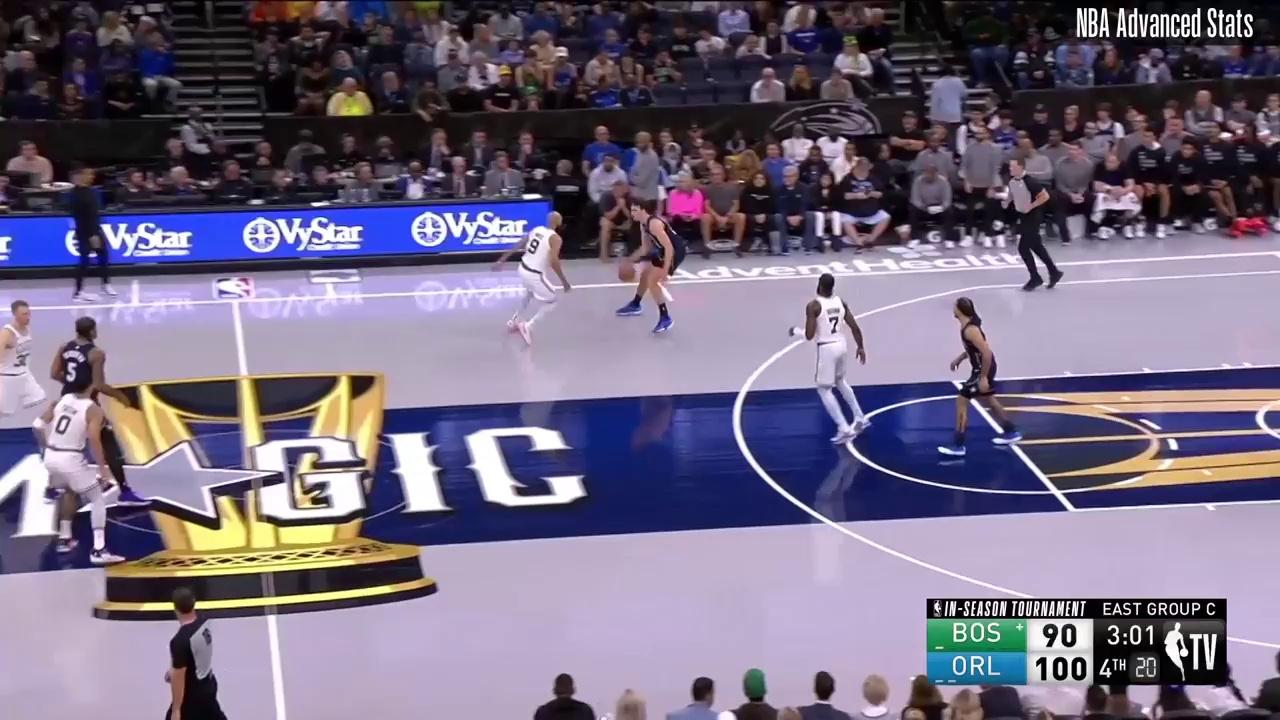free_adx: (1061, 500, 1082, 518)
free_asx: (945, 373, 965, 391)
half_sx: (226, 294, 245, 308)
mid_sx: (665, 295, 679, 306)
referee: (150, 587, 231, 720), (1003, 153, 1067, 286)
team: (41, 373, 129, 566), (781, 272, 876, 449), (487, 211, 572, 348), (0, 298, 55, 457)
team1: (51, 320, 145, 508), (934, 297, 1020, 457), (608, 200, 687, 336)
timer: (1098, 620, 1155, 650)
